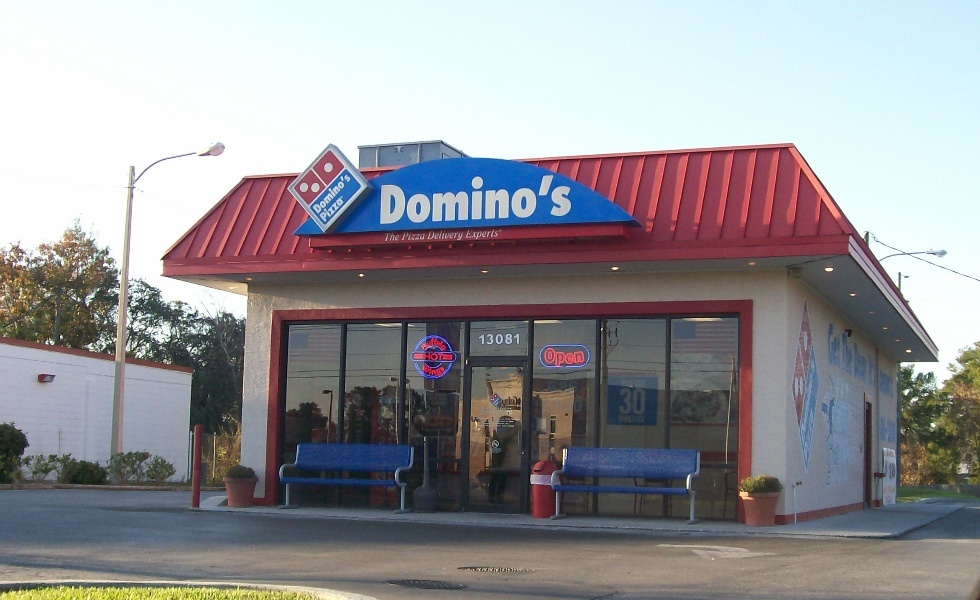text: (833, 322, 848, 401), (849, 322, 864, 401), (865, 322, 880, 401), (881, 322, 896, 401), (385, 170, 400, 225), (401, 170, 416, 225), (417, 170, 432, 225), (433, 170, 448, 225), (449, 170, 464, 225), (465, 170, 480, 225), (481, 170, 496, 225), (497, 170, 512, 225), (513, 170, 528, 225), (529, 170, 544, 225), (545, 170, 560, 225), (561, 170, 576, 225), (337, 171, 353, 215), (321, 171, 336, 215), (310, 171, 320, 215), (321, 196, 336, 224), (625, 387, 640, 415), (827, 322, 832, 401), (545, 348, 560, 366), (561, 348, 576, 366), (337, 196, 346, 224), (561, 378, 576, 394), (897, 322, 900, 401), (546, 378, 560, 394), (380, 170, 384, 225), (481, 332, 496, 346), (497, 332, 512, 346), (545, 400, 560, 413), (561, 400, 576, 413), (433, 339, 449, 351), (418, 339, 432, 351), (618, 387, 624, 415), (433, 230, 448, 241), (449, 230, 464, 241), (465, 230, 480, 241), (481, 230, 496, 241), (481, 418, 496, 429), (497, 418, 512, 429), (577, 348, 586, 366), (433, 363, 445, 376), (497, 407, 513, 416), (641, 387, 646, 415), (385, 233, 400, 242), (625, 415, 640, 424), (481, 407, 496, 416), (422, 363, 432, 376), (402, 232, 416, 241), (625, 381, 640, 389), (513, 332, 521, 346), (437, 406, 448, 416), (417, 232, 426, 241), (433, 353, 443, 361), (424, 406, 432, 416), (577, 400, 583, 413), (513, 418, 520, 429), (423, 353, 432, 361), (474, 418, 480, 429), (577, 170, 578, 225), (427, 230, 432, 241), (618, 415, 624, 424), (641, 415, 647, 424), (489, 448, 496, 455), (497, 448, 503, 455), (641, 381, 646, 389), (319, 196, 320, 224), (478, 332, 480, 346), (542, 400, 544, 413), (497, 230, 499, 241), (543, 348, 544, 366), (577, 378, 578, 394), (622, 381, 624, 389), (479, 407, 480, 416)
